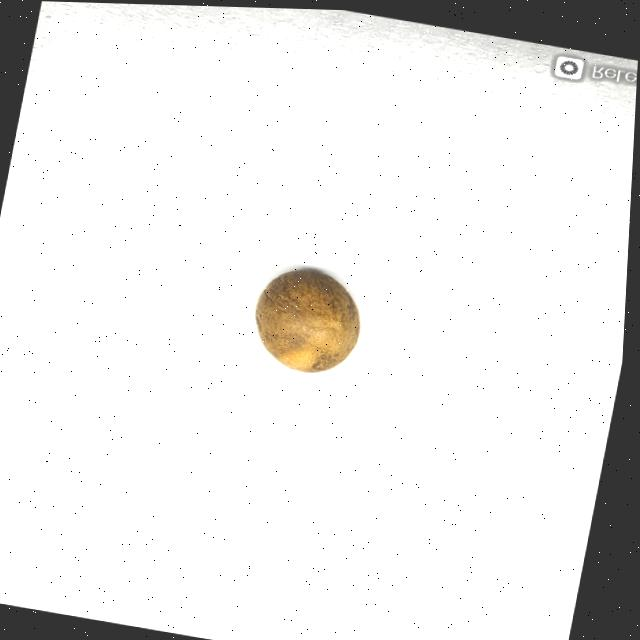Quaker: (248, 260, 373, 380)
